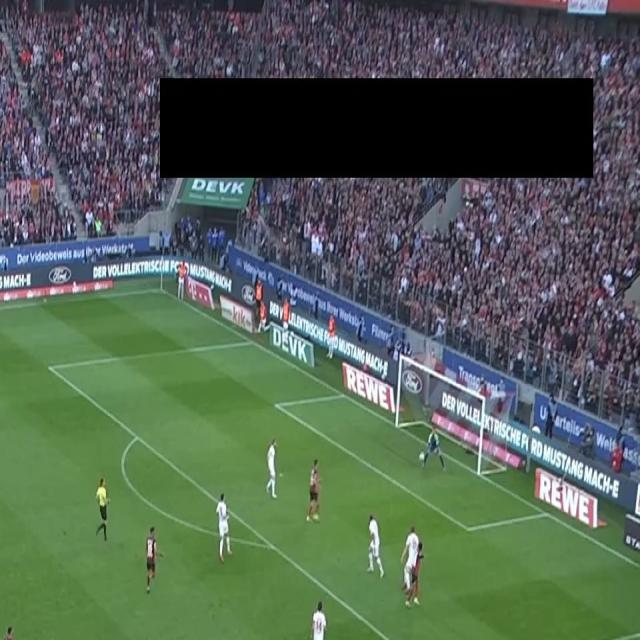ball: (419, 451, 425, 462)
